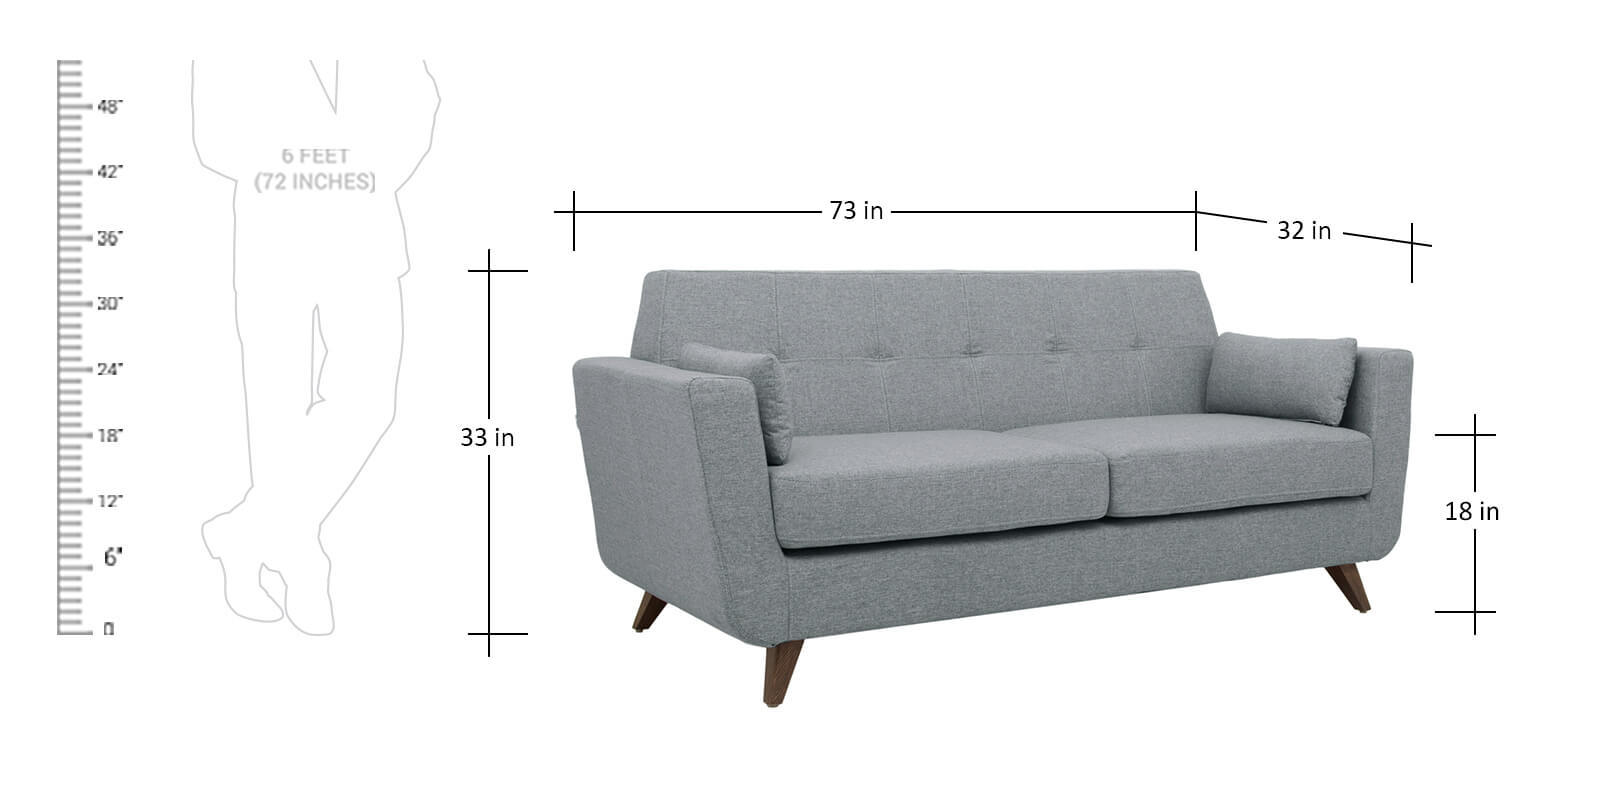Castello Three Seater Sofa in Gravel Grey Colour by CasaCraft: (561, 263, 1421, 696)
